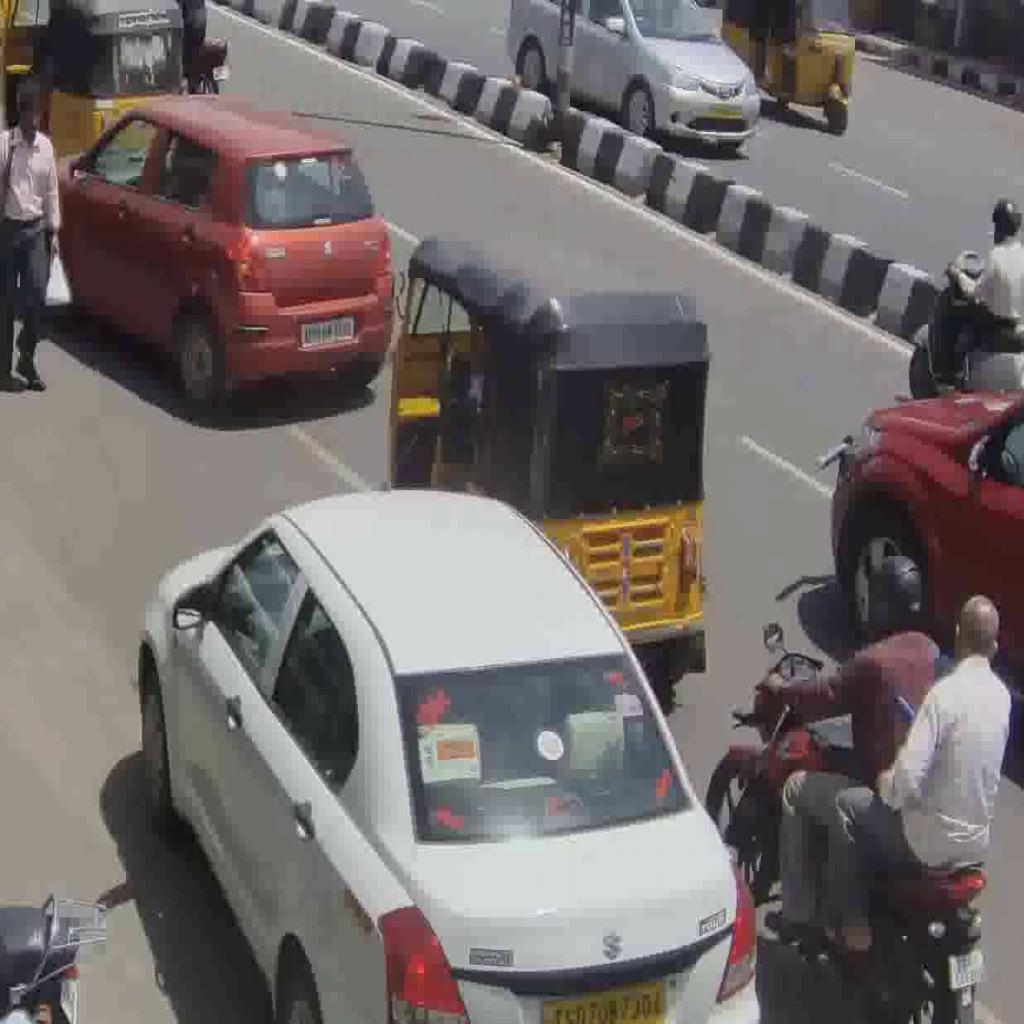helmet: (702, 617, 991, 1022)
